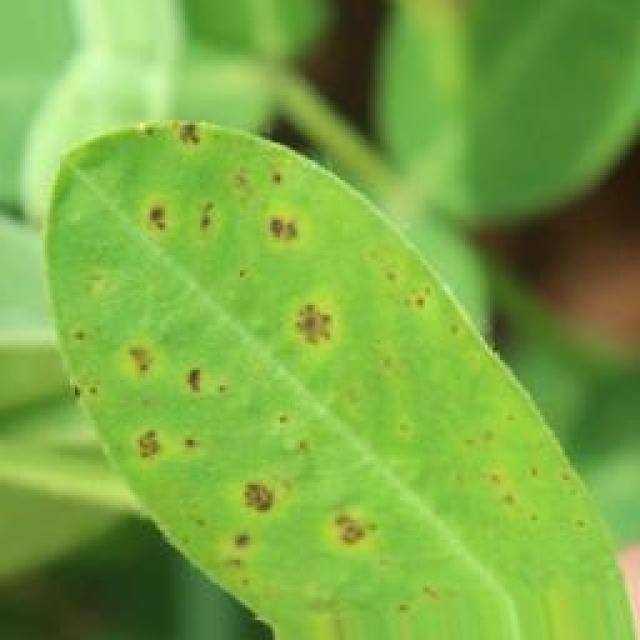Sigatoka: (434, 396, 598, 554), (102, 313, 227, 481), (125, 108, 237, 252), (362, 256, 480, 350), (234, 147, 314, 275), (266, 275, 372, 370), (216, 432, 303, 540), (27, 300, 98, 414), (196, 538, 286, 620), (313, 484, 387, 564)
